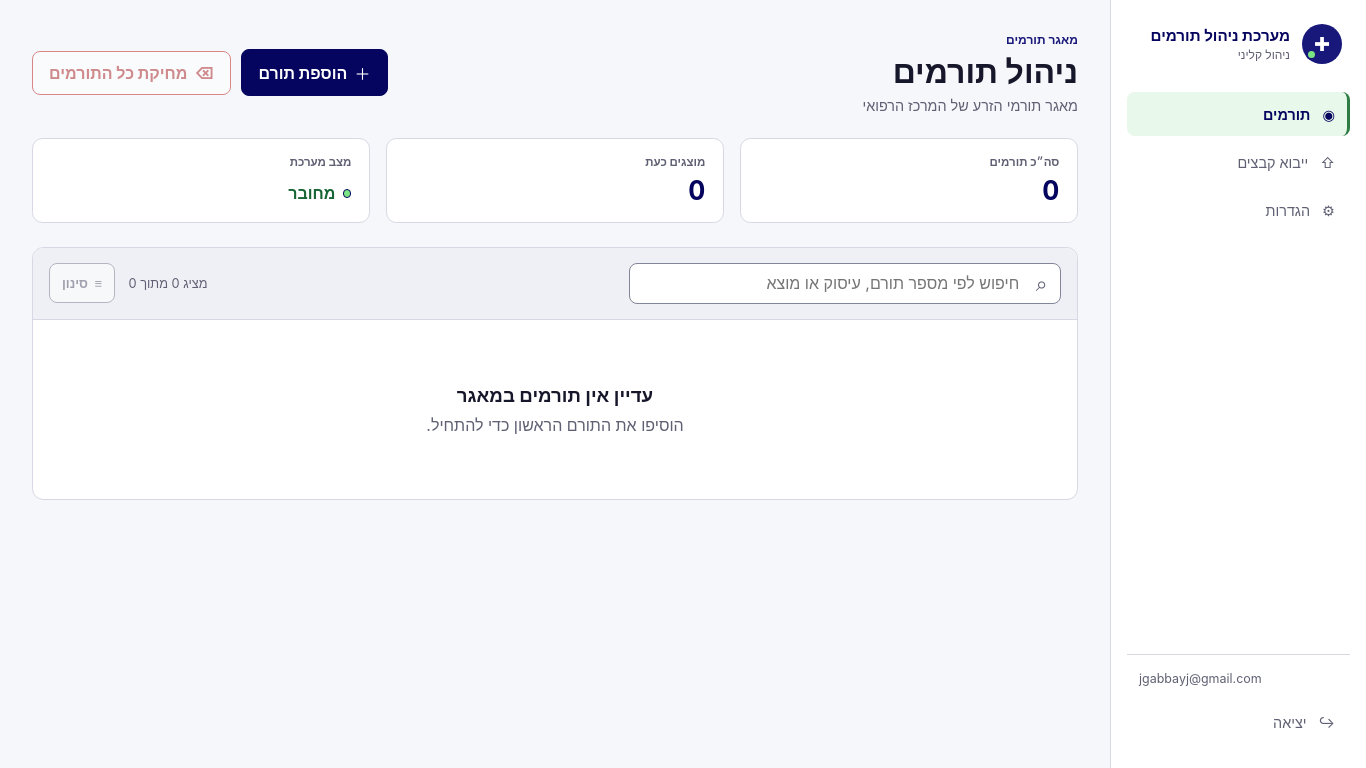
App › opens the shared user-access settings from the navigation
The image size is (1366, 768).
Click the button "⚙ הגדרות" at {"x": 1238, "y": 210}, box x1=1127 y1=188 x2=1350 y2=232
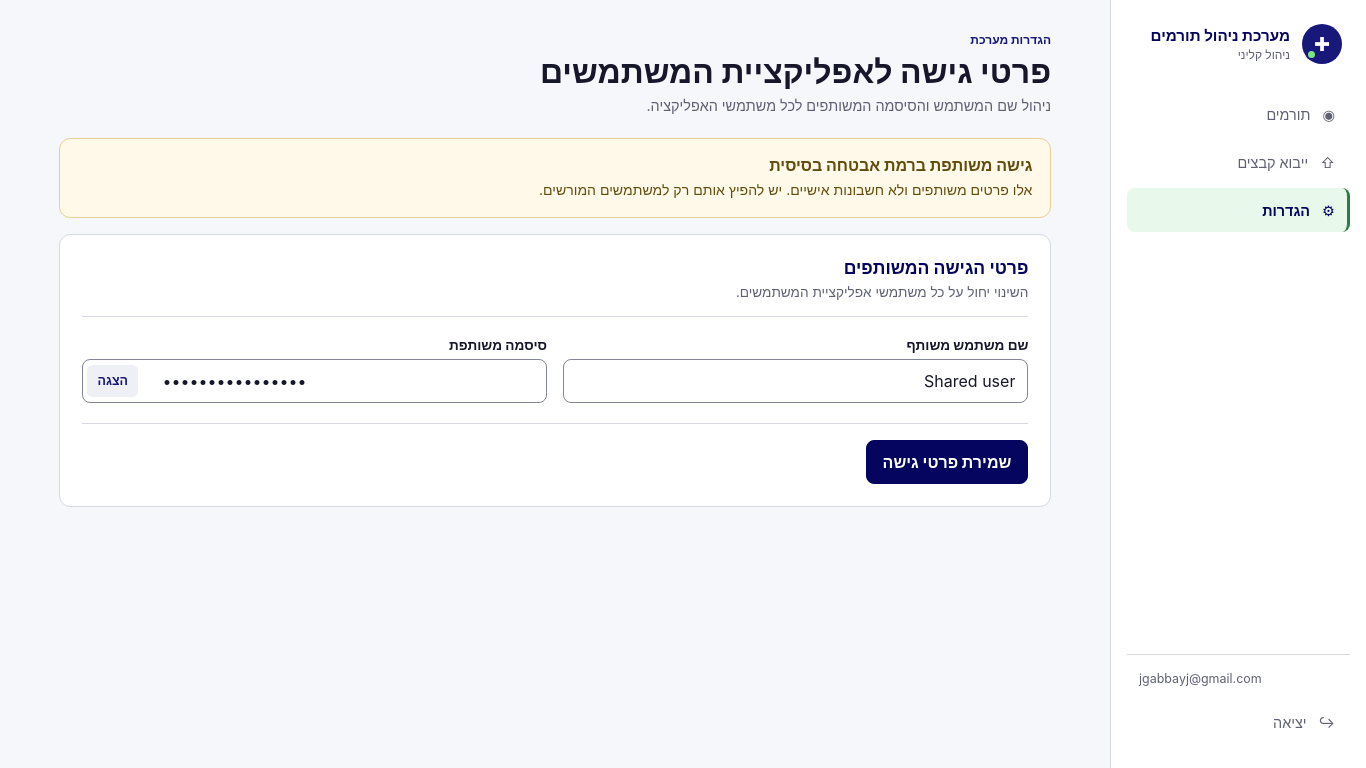
Now the heading "פרטי גישה לאפליקציית המשתמשים" is shown, box x1=540 y1=53 x2=1051 y2=91
Now the field showing "Shared user" is shown, box x1=563 y1=359 x2=1028 y2=403
